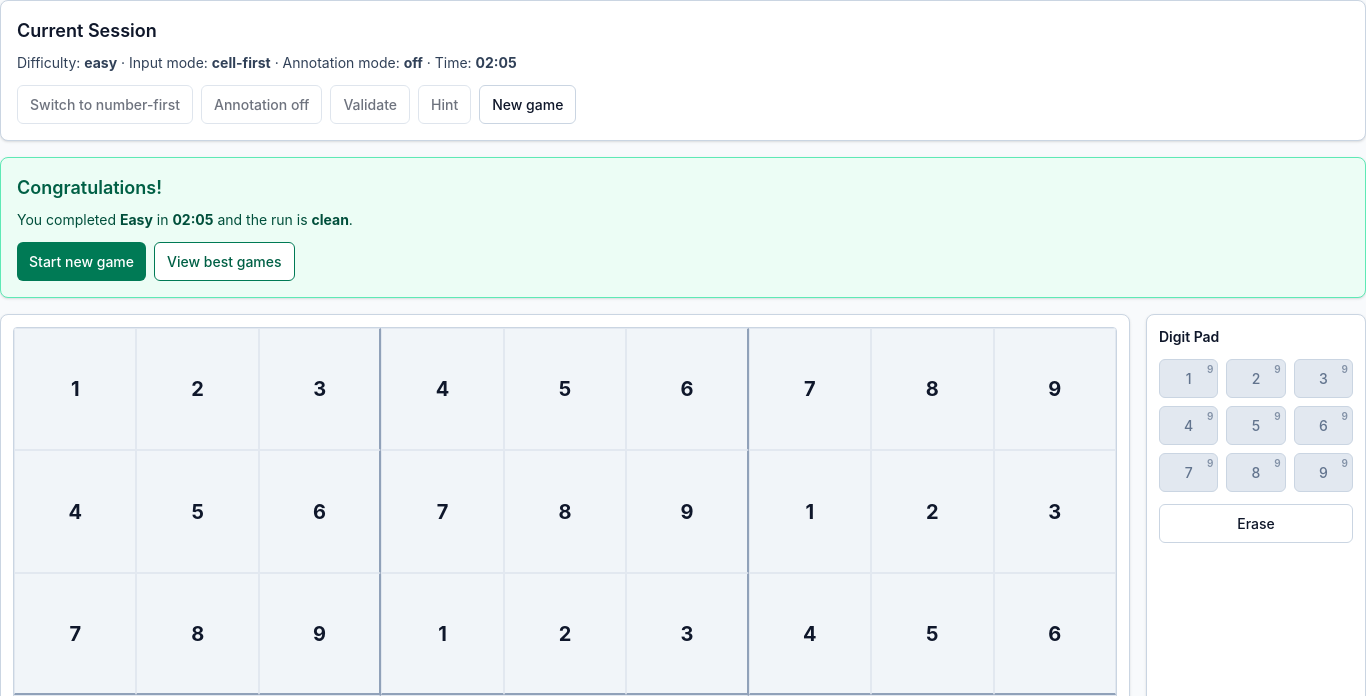
Test: GamePage integration › returns to difficulty selection from completion panel new game action
Click the button "Start new game": [82, 262] box [17,242,146,281]
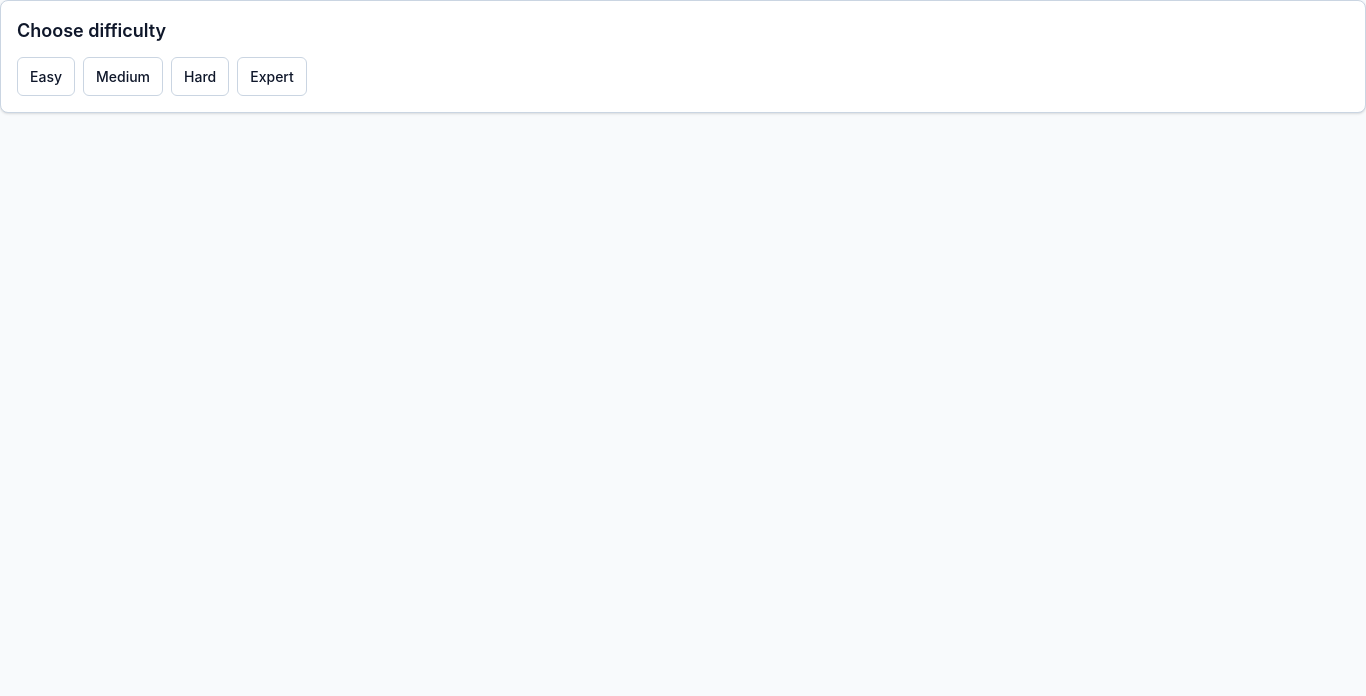
Check: the heading "Choose difficulty" is shown, box [17,20,166,41]
